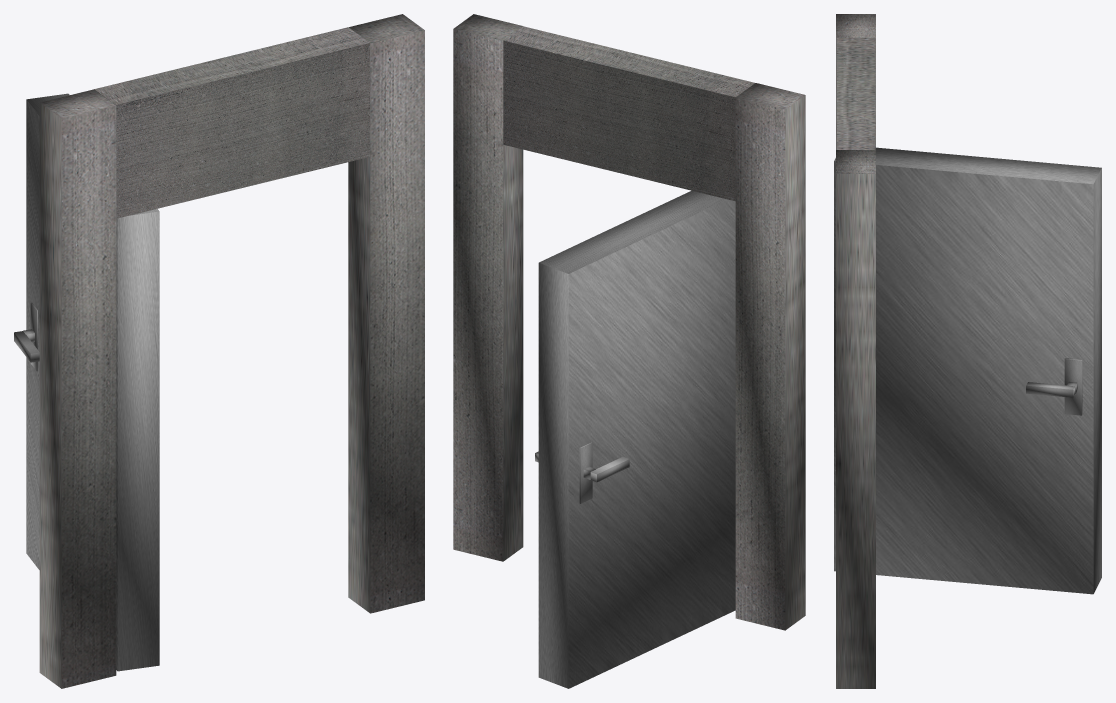
File: metaldoor_000004.obj
3 renders of one model, left to right at view 1: azimuth 30°, elevation 25°; view 2: azimuth 150°, elevation 25°; view 3: azimuth 270°, elevation 25°, orthographic. The views are drawn at different scales.
Visible parts, largest first — view 1: Cube.006_Cube.007, Cube.004_Cube.005; view 2: Cube.006_Cube.007, Cube.004_Cube.005; view 3: Cube.004_Cube.005, Cube.006_Cube.007.
Boxes of the visible parts, x1,y1,x2,y2 form: Cube.006_Cube.007: (39,14,424,688); Cube.004_Cube.005: (14,93,159,671); Cube.006_Cube.007: (453,14,805,630); Cube.004_Cube.005: (535,190,735,688); Cube.004_Cube.005: (834,147,1101,594); Cube.006_Cube.007: (836,14,875,688).
Size of the model in its own units: 2 by 3 by 1.41.
